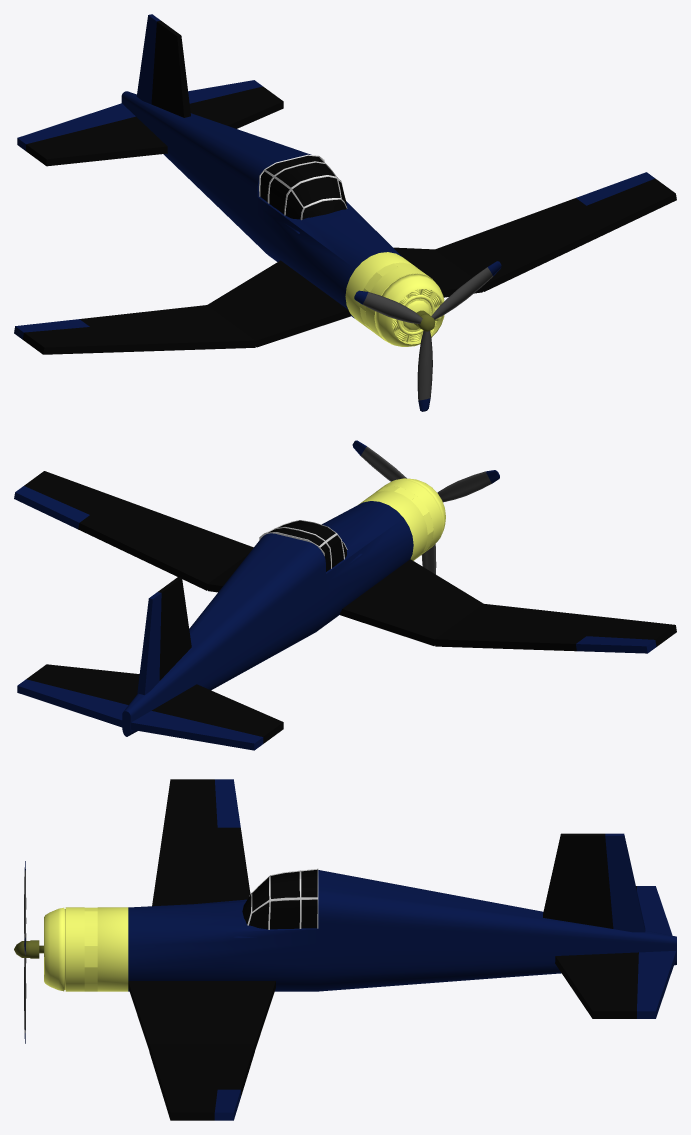
File: Corsair F4U 3d export_export.obj
3 renders of one model, top to bottom at view 1: azimuth 30°, elevation 25°; view 2: azimuth 150°, elevation 25°; view 3: azimuth 270°, elevation 25°, orthographic. The views are drawn at different scales.
Visible parts, largest first — view 1: Mesh_14, Mesh_9, Mesh_0, Mesh_8, Mesh_3, Large_Engine_26, Mesh_1, Mesh_6, Mesh_2, Mesh_4, Mesh_11, Mesh_13 (+8 smaller); view 2: Mesh_3, Mesh_14, Mesh_9, Mesh_8, Mesh_0, Mesh_2, Mesh_6, Mesh_11, Large_Engine_26, Control Surface_7, Mesh_4, Control Surface_12 (+6 smaller); view 3: Mesh_3, Mesh_0, Mesh_2, Mesh_9, Mesh_13, Large_Engine_26, Mesh_14, Mesh_4, Mesh_11, Mesh_1, Control Surface_5, Control Surface_12 (+3 smaller).
Boxes of the visible parts, box(x1,y1,x2,y2) form: Mesh_14: box(435, 178, 676, 291); Mesh_9: box(22, 305, 256, 354); Mesh_0: box(257, 196, 401, 318); Mesh_8: box(207, 260, 350, 347); Mesh_3: box(121, 91, 311, 203); Large_Engine_26: box(345, 252, 444, 346); Mesh_1: box(259, 154, 347, 233); Mesh_6: box(26, 116, 167, 166); Mesh_2: box(121, 101, 266, 253); Mesh_4: box(151, 20, 190, 117); Mesh_11: box(189, 86, 283, 128); Mesh_13: box(393, 247, 483, 297); Mesh_3: box(122, 533, 325, 720); Mesh_14: box(24, 471, 253, 590); Mesh_9: box(435, 603, 676, 651); Mesh_8: box(340, 559, 483, 645); Mesh_0: box(316, 501, 413, 631); Mesh_2: box(122, 581, 325, 736); Mesh_6: box(152, 684, 283, 743); Mesh_11: box(26, 664, 139, 704); Large_Engine_26: box(358, 478, 445, 560); Control Surface_7: box(131, 711, 263, 750); Mesh_4: box(158, 577, 191, 680); Control Surface_12: box(17, 679, 128, 727); Mesh_3: box(318, 870, 676, 948); Mesh_0: box(128, 899, 318, 991); Mesh_2: box(318, 936, 676, 991); Mesh_9: box(152, 779, 250, 906); Mesh_13: box(128, 981, 275, 1050); Large_Engine_26: box(44, 907, 128, 991); Mesh_14: box(149, 1044, 254, 1120); Mesh_4: box(543, 833, 613, 928); Mesh_11: box(555, 952, 638, 1018); Mesh_1: box(233, 868, 318, 937); Control Surface_5: box(605, 833, 645, 932); Control Surface_12: box(637, 951, 676, 1018).
Bounding box in the file's own units: 9.38 × 2.74 × 7.85.
3 materials, 1 textured.
